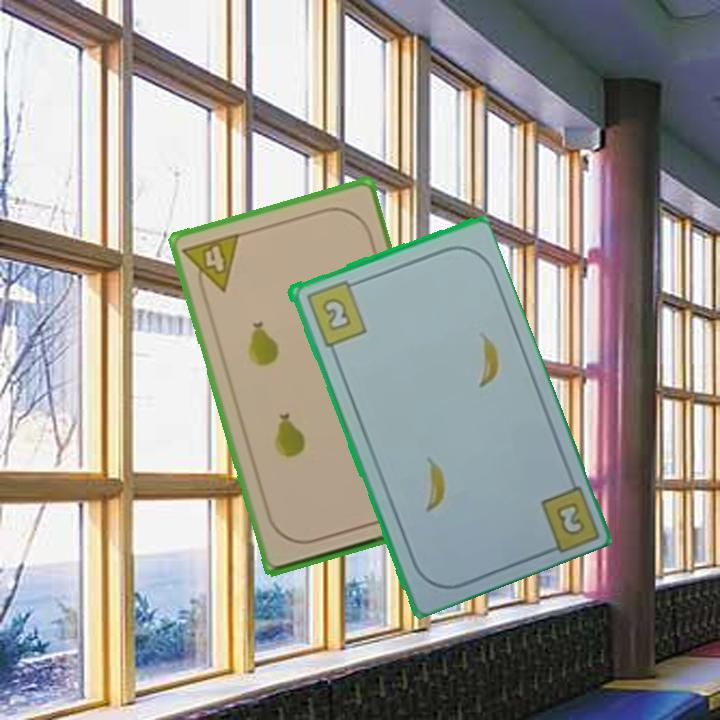2b: (302, 276, 369, 349), (551, 498, 588, 539)
4p: (179, 229, 243, 300)
